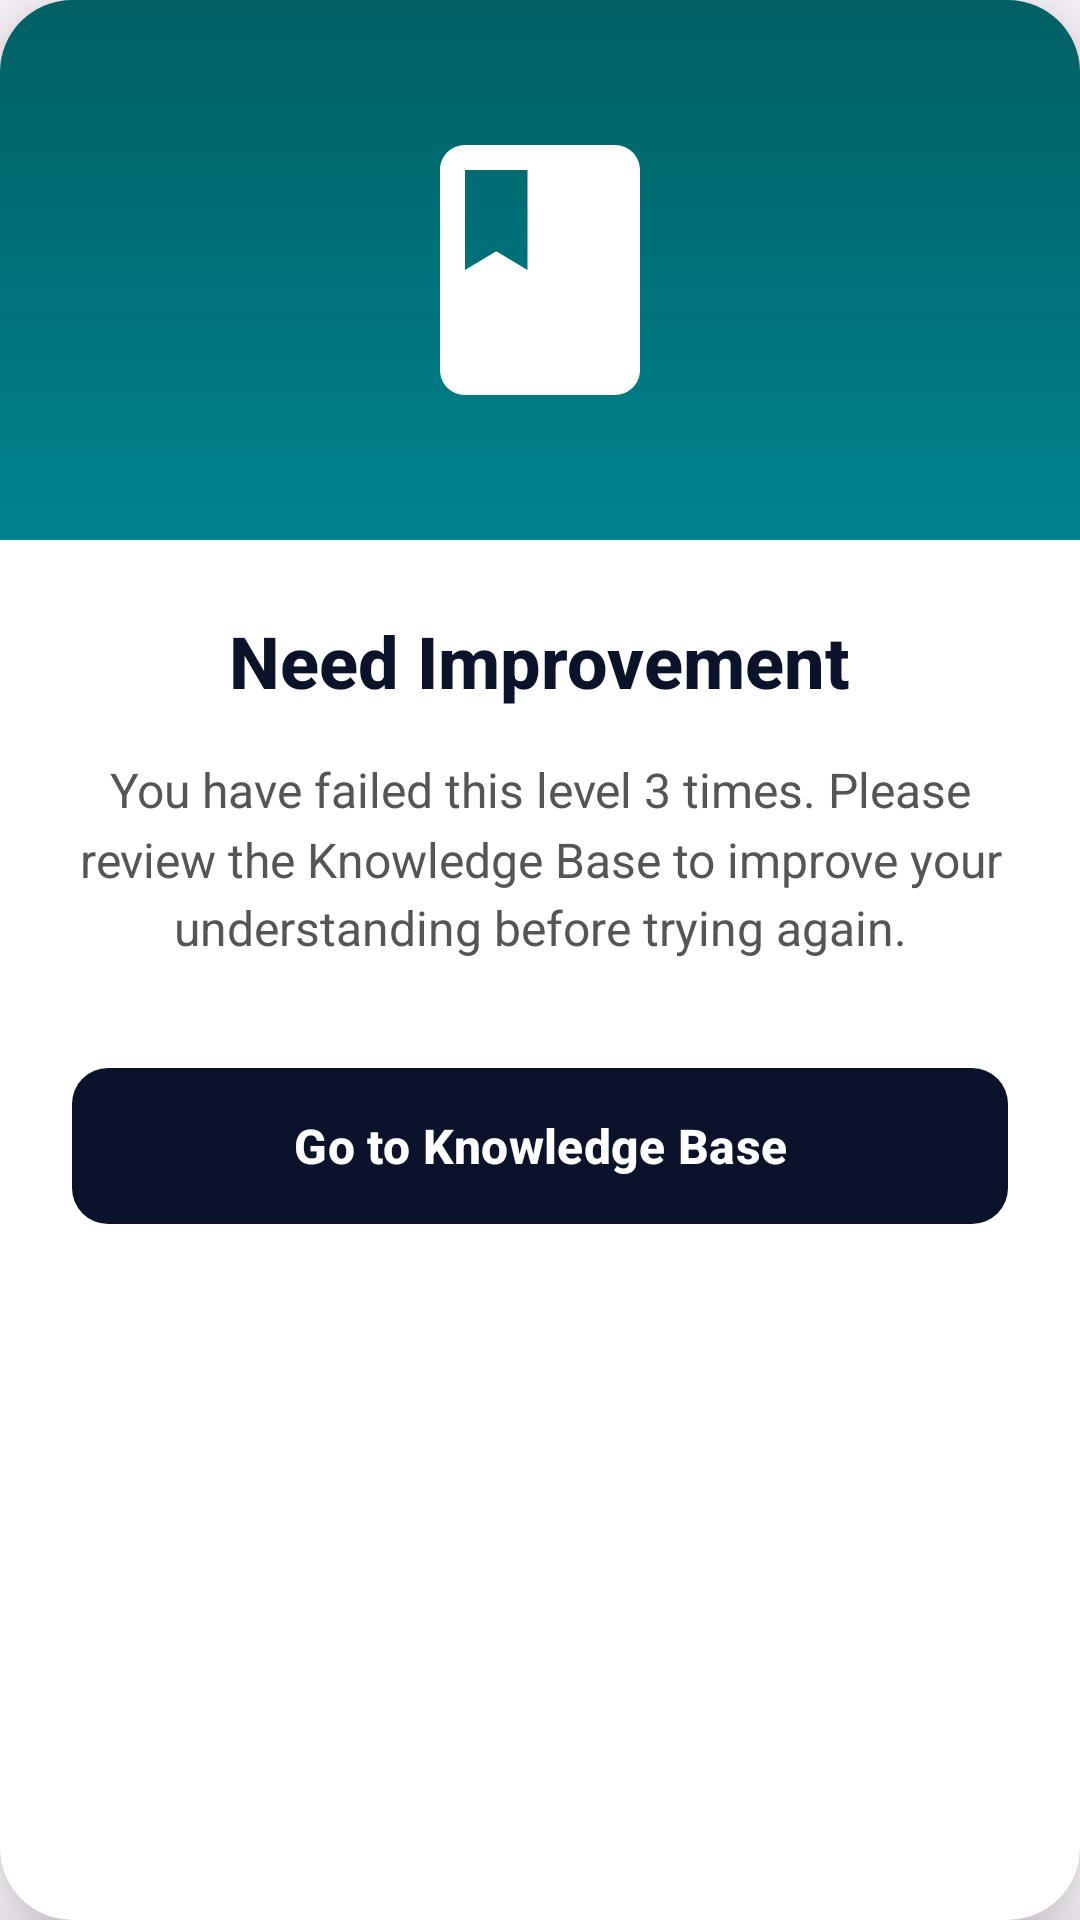

Where icons sit on this 1080×1920 app screen, as (x1, y1, x2, y2):
resources: (440, 145, 640, 395)
